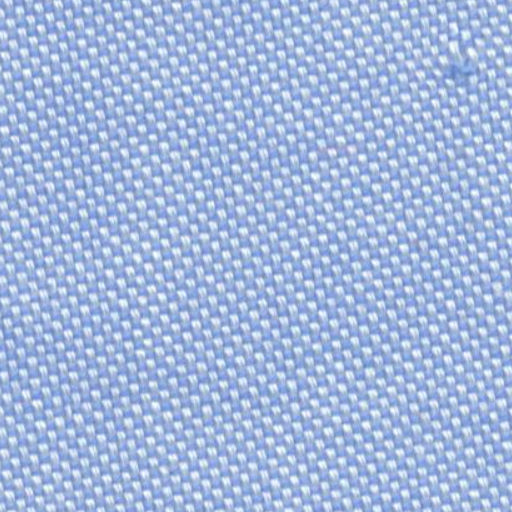PoDong: (432, 27, 500, 103)
